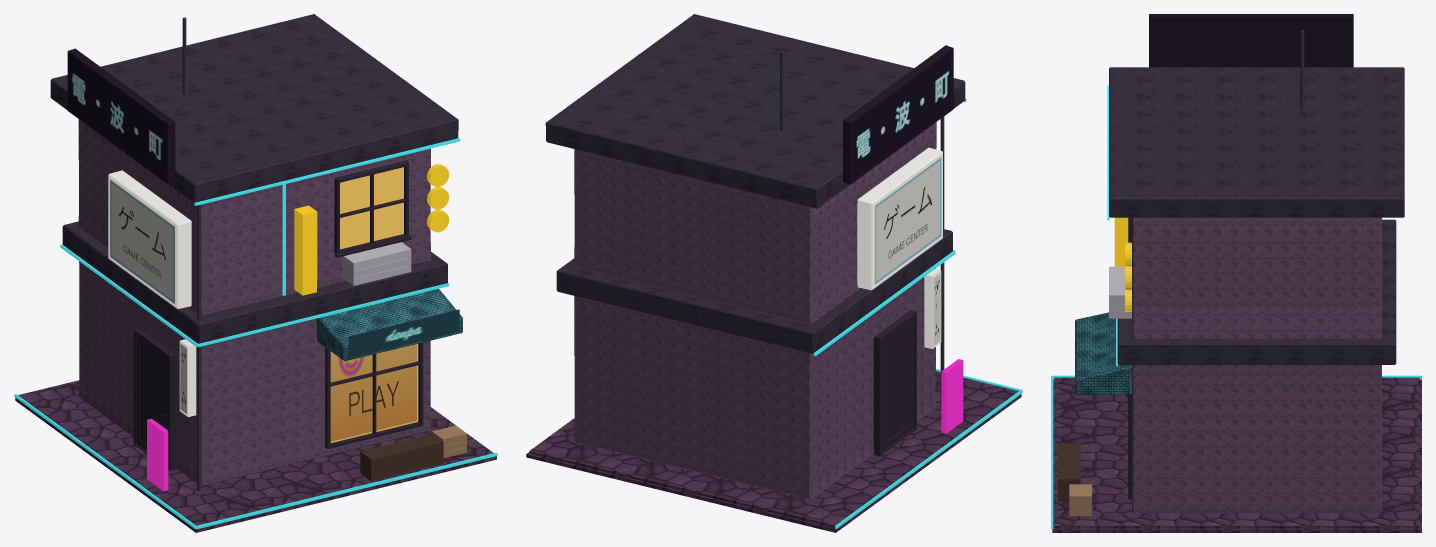
File: neon_shop.glb
3 renders of one model, left to right at view 1: azimuth 30°, elevation 25°; view 2: azimuth 150°, elevation 25°; view 3: azimuth 270°, elevation 25°, orthographic. The views are drawn at different scales.
Parts seen in each view (by area): view 1: neon_shop_roof_slab, neon_shop_gf_shell, neon_shop_upper_shell, neon_shop_platform, neon_shop_cornice, neon_shop_shop_glow, neon_shop_top_sign_glow, neon_shop_lightbox_glow, neon_shop_entry_door, neon_shop_awning, neon_shop_upper_glass, neon_shop_lightbox_sign (+16 smaller); view 2: neon_shop_gf_shell, neon_shop_roof_slab, neon_shop_upper_shell, neon_shop_platform, neon_shop_cornice, neon_shop_top_sign_glow, neon_shop_lightbox_glow, neon_shop_entry_door, neon_shop_lightbox_sign, neon_shop_top_sign, neon_shop_magenta_board, neon_shop_neon_platform_side (+3 smaller); view 3: neon_shop_roof_slab, neon_shop_gf_shell, neon_shop_upper_shell, neon_shop_platform, neon_shop_top_sign, neon_shop_cornice, neon_shop_awning, neon_shop_bench, neon_shop_ac_unit, neon_shop_crates, neon_shop_yellow_sign, neon_shop_neon_platform_front.
Part boxes in pixels (x1=…): neon_shop_roof_slab: x1=50, y1=14, x2=458, y2=202; neon_shop_gf_shell: x1=79, y1=261, x2=430, y2=486; neon_shop_upper_shell: x1=78, y1=119, x2=431, y2=316; neon_shop_platform: x1=15, y1=380, x2=496, y2=532; neon_shop_cornice: x1=62, y1=221, x2=447, y2=343; neon_shop_shop_glow: x1=330, y1=344, x2=416, y2=441; neon_shop_top_sign_glow: x1=69, y1=54, x2=164, y2=179; neon_shop_lightbox_glow: x1=110, y1=179, x2=174, y2=303; neon_shop_entry_door: x1=133, y1=328, x2=176, y2=470; neon_shop_awning: x1=316, y1=288, x2=462, y2=361; neon_shop_upper_glass: x1=340, y1=167, x2=403, y2=249; neon_shop_lightbox_sign: x1=108, y1=170, x2=191, y2=308; neon_shop_gf_shell: x1=574, y1=268, x2=936, y2=499; neon_shop_roof_slab: x1=545, y1=14, x2=965, y2=208; neon_shop_upper_shell: x1=574, y1=122, x2=936, y2=324; neon_shop_platform: x1=526, y1=371, x2=1021, y2=532; neon_shop_cornice: x1=556, y1=229, x2=952, y2=353; neon_shop_top_sign_glow: x1=853, y1=51, x2=951, y2=180; neon_shop_lightbox_glow: x1=874, y1=157, x2=941, y2=284; neon_shop_entry_door: x1=873, y1=310, x2=916, y2=456; neon_shop_lightbox_sign: x1=857, y1=147, x2=942, y2=290; neon_shop_top_sign: x1=843, y1=45, x2=953, y2=184; neon_shop_magenta_board: x1=941, y1=359, x2=963, y2=433; neon_shop_neon_platform_side: x1=835, y1=390, x2=1022, y2=528; neon_shop_roof_slab: x1=1109, y1=67, x2=1404, y2=217; neon_shop_gf_shell: x1=1132, y1=365, x2=1381, y2=512; neon_shop_upper_shell: x1=1132, y1=217, x2=1381, y2=338; neon_shop_platform: x1=1052, y1=377, x2=1421, y2=532; neon_shop_top_sign: x1=1149, y1=14, x2=1353, y2=67; neon_shop_cornice: x1=1117, y1=219, x2=1396, y2=364; neon_shop_awning: x1=1075, y1=312, x2=1131, y2=394; neon_shop_bench: x1=1058, y1=443, x2=1080, y2=501; neon_shop_ac_unit: x1=1109, y1=266, x2=1131, y2=318; neon_shop_crates: x1=1069, y1=484, x2=1091, y2=515; neon_shop_yellow_sign: x1=1114, y1=217, x2=1128, y2=266; neon_shop_neon_platform_front: x1=1051, y1=376, x2=1053, y2=528.
Size of the model in its own units: 6.27 by 7.9 by 6.52.
7 materials, 7 textured.
